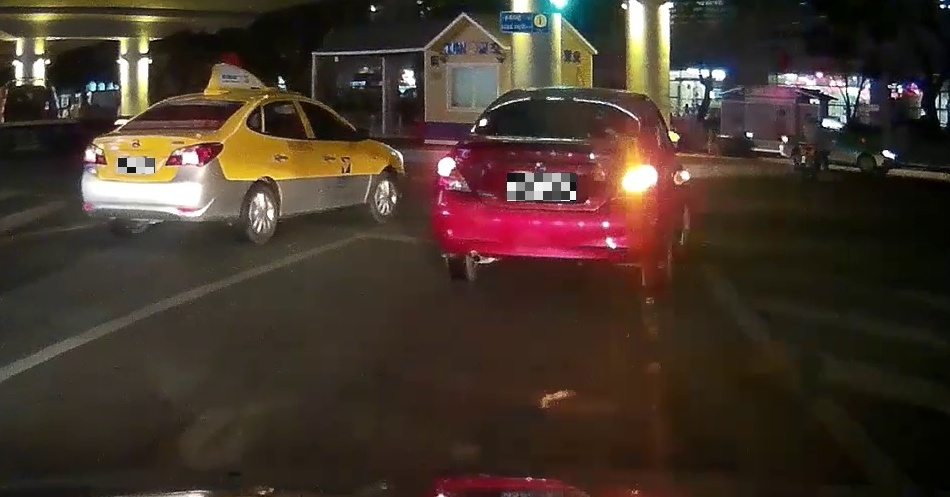L_light: (435, 155, 472, 194), (82, 143, 106, 165)
R_light: (612, 158, 656, 199), (164, 141, 224, 167)
T_light: (547, 95, 575, 102), (190, 99, 216, 104)
night-no: (81, 91, 259, 240)
night-right: (430, 86, 670, 284)
plate_1: (118, 158, 155, 173)
plate_2: (507, 173, 576, 201)
